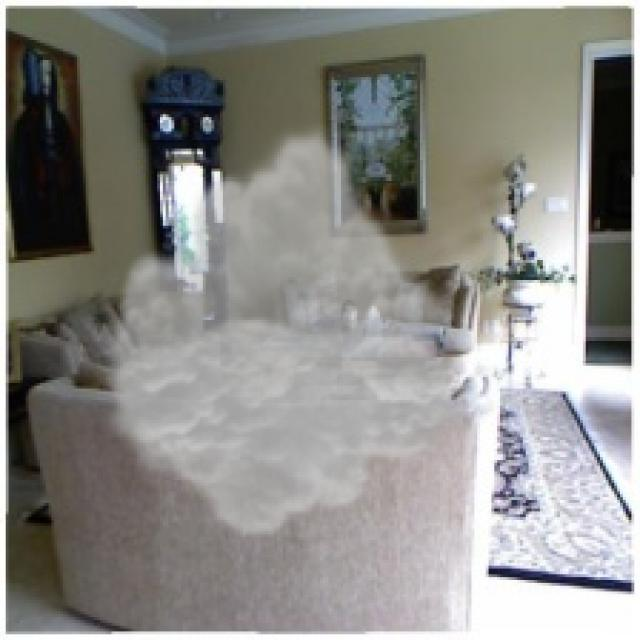Smoke: (97, 123, 466, 543)
